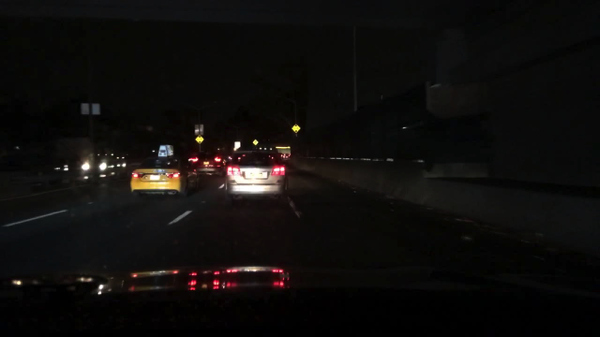car: (222, 149, 289, 208), (128, 144, 200, 198), (195, 150, 226, 177), (81, 156, 108, 171), (278, 152, 285, 160), (224, 156, 229, 163), (284, 153, 289, 158)
traffic sign: (57, 137, 92, 160), (81, 103, 100, 116), (194, 124, 205, 136), (194, 134, 205, 145), (290, 124, 301, 134), (234, 141, 241, 149), (251, 139, 258, 146)
